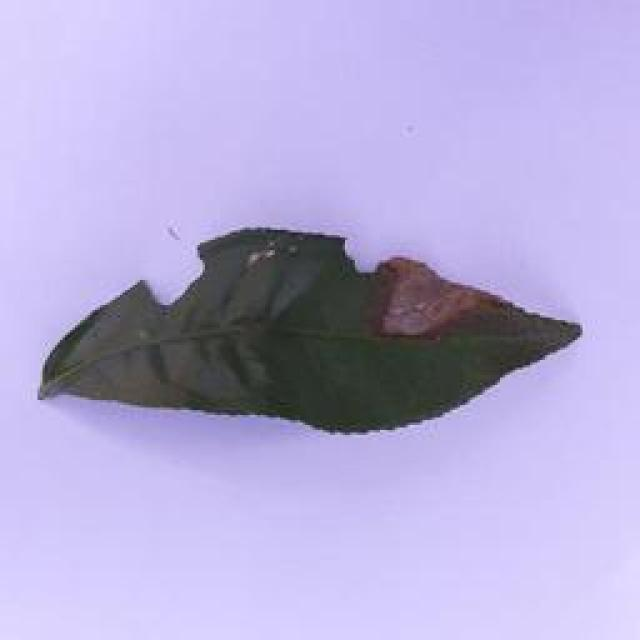Gray Blight: (33, 222, 588, 440)
